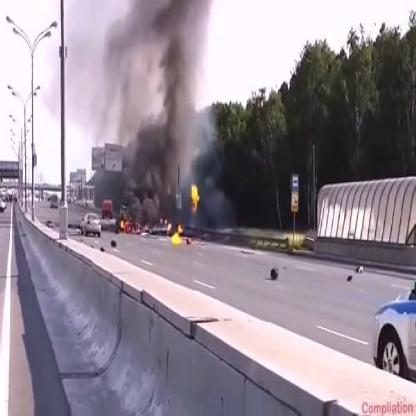fire: (167, 222, 185, 246), (189, 181, 201, 214), (118, 218, 140, 235)
